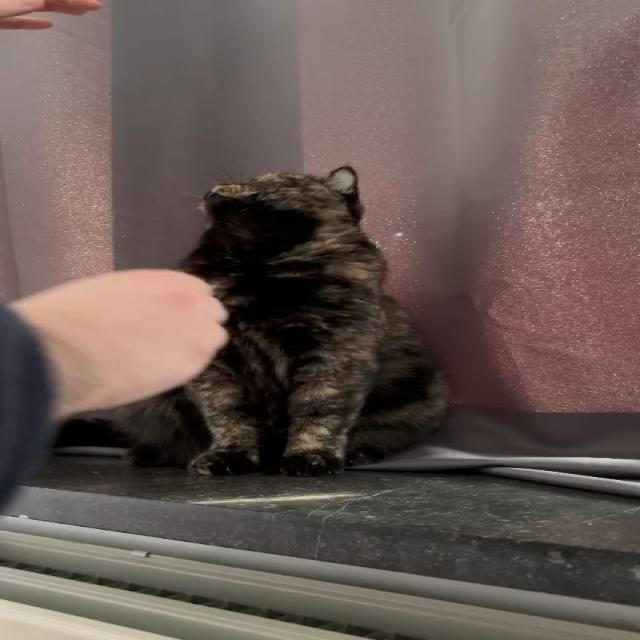authorized: (107, 164, 452, 477)
